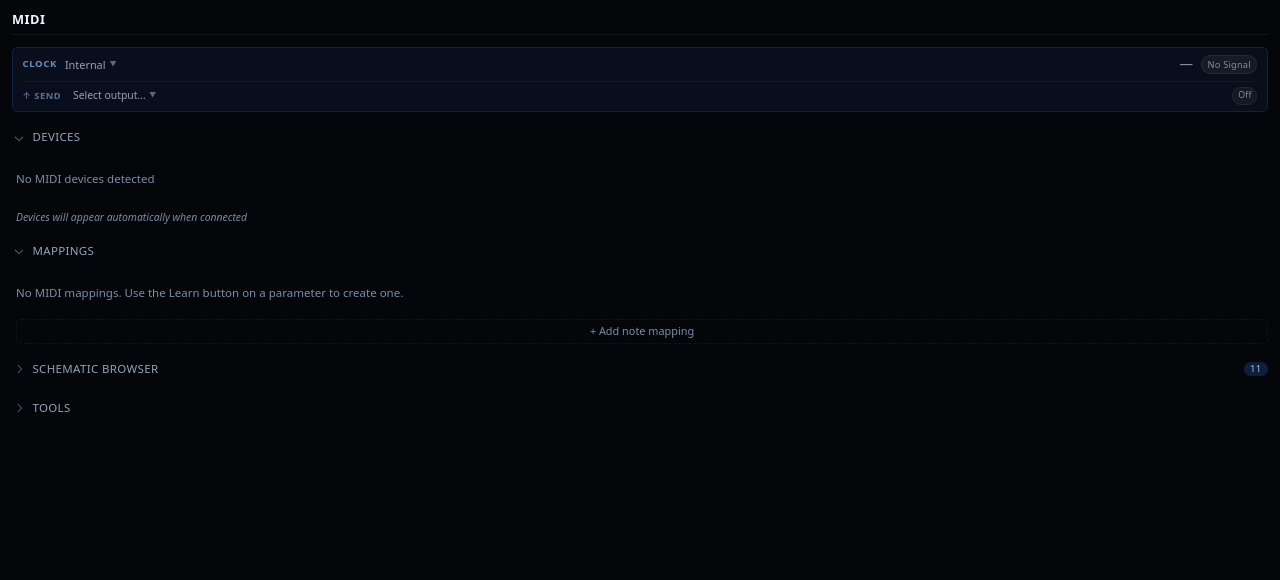
Test: MidiPanel › add note mapping form › opens form when button clicked
This screenshot has width=1280, height=580.
Click the button "+ Add note mapping": [642, 331] box [16,319,1268,344]
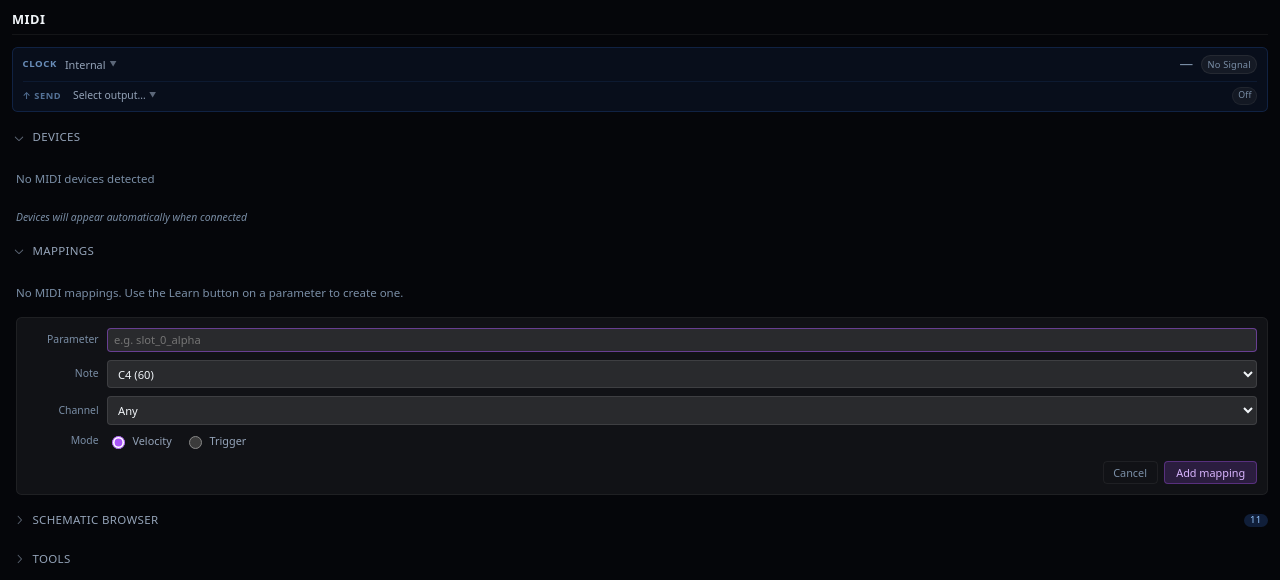
Now the field labelled "Parameter" is shown, box [107,328,1257,352]
Now the dropdown labelled "Note" is shown, box [107,360,1257,388]
Now the dropdown labelled "Channel" is shown, box [107,396,1257,425]
